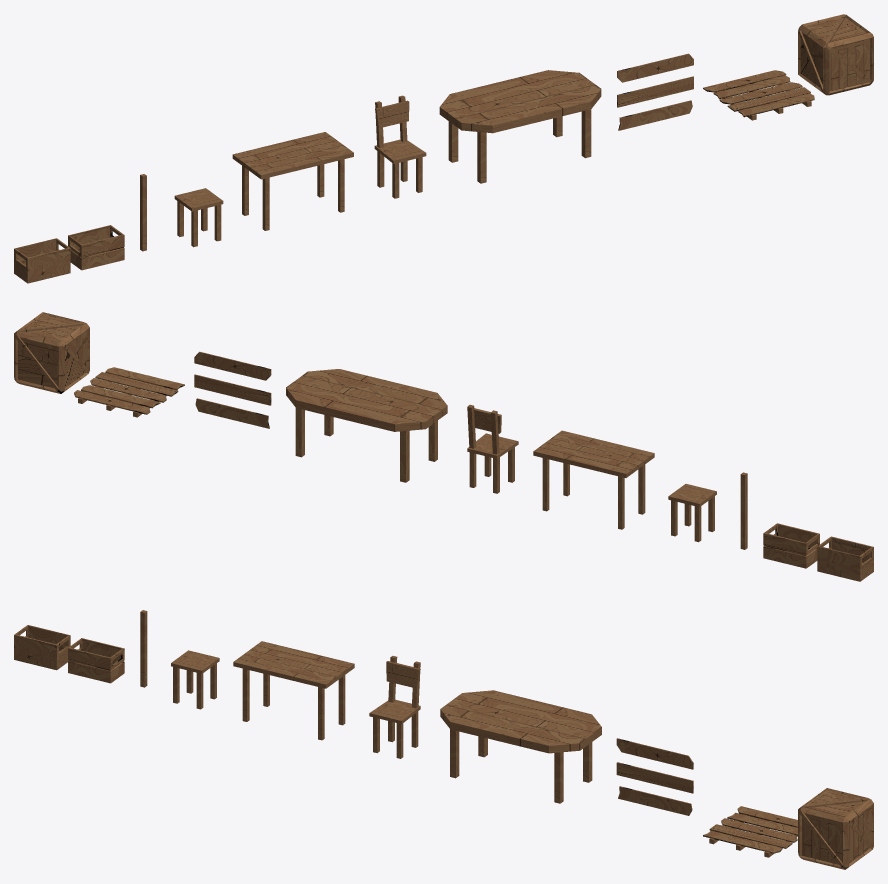
File: Table_Chair.fbx
The picture shows the model from 3 angles, top to bottom: view 1: azimuth 30°, elevation 25°; view 2: azimuth 150°, elevation 25°; view 3: azimuth 330°, elevation 25°; orthographic projection.
Parts seen in each view (by area): view 1: Table_2, WoodBox, Table_1, WoodPlate, Chair, Toolbox_2, Toolbox_1, Stool, Wood_2, Wood_3, Wood_1, Leg; view 2: Table_2, WoodBox, Table_1, WoodPlate, Chair, Toolbox_2, Toolbox_1, Stool, Wood_2, Wood_3, Wood_1, Leg; view 3: Table_2, WoodBox, Table_1, WoodPlate, Chair, Toolbox_1, Toolbox_2, Stool, Wood_2, Wood_3, Wood_1, Leg.
Part boxes in pixels (box(x1,y1,x2,y2)): Table_2: box(439, 70, 601, 183); WoodBox: box(798, 14, 873, 95); Table_1: box(232, 132, 353, 230); WoodPlate: box(703, 70, 814, 120); Chair: box(374, 95, 426, 198); Toolbox_2: box(14, 238, 70, 283); Toolbox_1: box(68, 225, 124, 270); Stool: box(174, 188, 223, 247); Wood_2: box(617, 76, 693, 107); Wood_3: box(617, 53, 693, 82); Wood_1: box(618, 100, 692, 130); Leg: box(140, 174, 146, 251); Table_2: box(286, 369, 447, 482); WoodBox: box(14, 312, 89, 393); Table_1: box(533, 430, 654, 529); WoodPlate: box(74, 367, 184, 417); Chair: box(467, 404, 518, 493); Toolbox_2: box(817, 536, 873, 581); Toolbox_1: box(763, 523, 819, 568); Stool: box(668, 484, 716, 542); Wood_2: box(194, 374, 271, 405); Wood_3: box(194, 351, 271, 380); Wood_1: box(195, 398, 269, 428); Leg: box(740, 472, 747, 549); Table_2: box(440, 690, 601, 803); WoodBox: box(798, 788, 873, 869); Table_1: box(233, 641, 354, 740); WoodPlate: box(703, 806, 797, 857); Chair: box(369, 656, 420, 758); Toolbox_1: box(68, 638, 124, 683); Toolbox_2: box(14, 625, 70, 670); Stool: box(171, 650, 219, 709); Wood_2: box(616, 762, 693, 793); Wood_3: box(616, 738, 693, 769); Wood_1: box(618, 786, 692, 815); Leg: box(140, 610, 147, 687).
Bounding box in the file's own units: 11.43 × 1.09 × 1.02.
